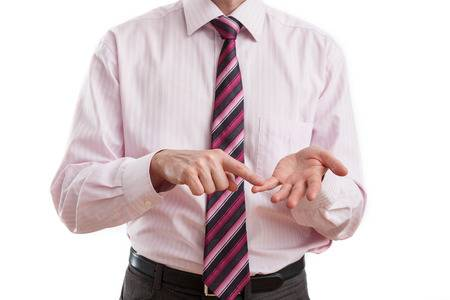F_belt: (115, 238, 307, 286)
F_shirt: (50, 3, 368, 275)
